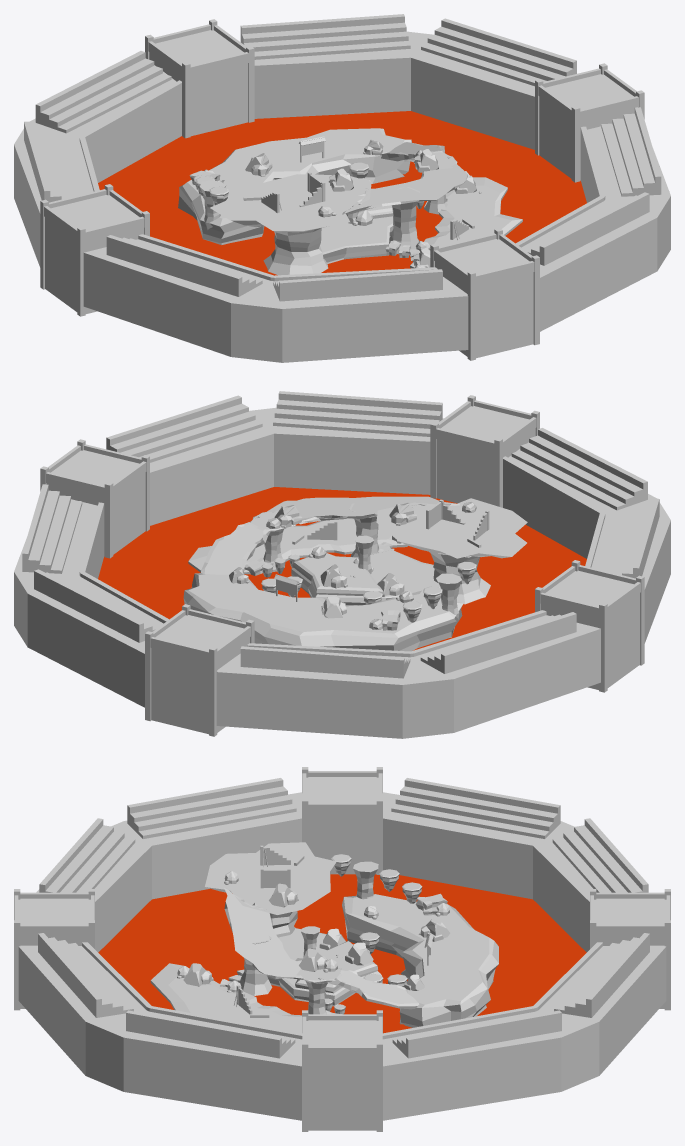
Rendered from Lava Courtyard.fbx.
3 renders of one model, top to bottom at view 1: azimuth 30°, elevation 25°; view 2: azimuth 150°, elevation 25°; view 3: azimuth 270°, elevation 25°, orthographic.
Parts seen in each view (by area): view 1: Wall, Cube.006, Lava, Cube.005, Cube.004, Plane.001, Plane.002, Plane, Plane.003, Plane.005, Cylinder.002, Cylinder (+2 smaller); view 2: Wall, Cube.006, Cube.005, Lava, Cube.004, Plane.001, Plane.002, Plane.003, Plane, Plane.005, Bridge 1, Cylinder.002 (+4 smaller); view 3: Wall, Cube.006, Lava, Cube.004, Plane.001, Cube.005, Plane.002, Plane, Plane.005, Plane.003, Bridge 1, Cylinder (+4 smaller).
Boxes of the visible parts, x1,y1,x2,y2 form: Wall: [14, 31, 670, 362]; Cube.006: [24, 14, 661, 301]; Lava: [98, 111, 586, 275]; Cube.005: [145, 19, 539, 360]; Cube.004: [40, 63, 644, 316]; Plane.001: [178, 128, 411, 244]; Plane.002: [210, 174, 371, 232]; Plane: [410, 177, 522, 268]; Plane.003: [320, 205, 393, 263]; Plane.005: [342, 163, 467, 214]; Cylinder.002: [263, 228, 328, 275]; Cylinder: [389, 187, 419, 254]; Wall: [14, 407, 670, 738]; Cube.006: [22, 391, 659, 678]; Cube.005: [145, 395, 539, 736]; Lava: [98, 487, 586, 650]; Cube.004: [40, 439, 644, 692]; Plane.001: [183, 573, 463, 651]; Plane.002: [376, 498, 527, 558]; Plane.003: [291, 550, 440, 606]; Plane: [188, 518, 407, 574]; Plane.005: [267, 496, 459, 524]; Bridge 1: [201, 522, 270, 574]; Cylinder.002: [429, 551, 490, 604]; Wall: [18, 792, 666, 1120]; Cube.006: [38, 778, 649, 1058]; Lava: [98, 874, 586, 1033]; Cube.004: [302, 767, 382, 1131]; Plane.001: [342, 894, 498, 1027]; Cube.005: [14, 889, 670, 1010]; Plane.002: [205, 842, 336, 914]; Plane: [150, 963, 301, 1033]; Plane.005: [224, 887, 304, 979]; Plane.003: [267, 928, 382, 1006]; Bridge 1: [328, 968, 419, 1009]; Cylinder: [239, 936, 272, 995].
Bounding box in the file's own units: 96004 × 15342 × 96004.
